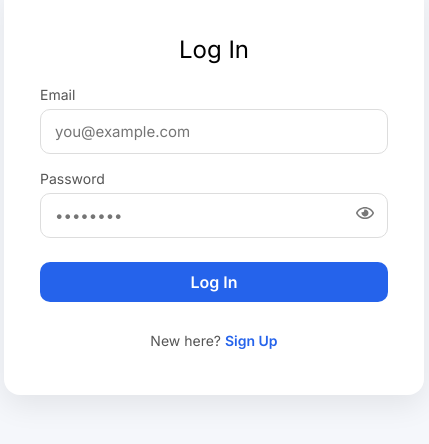
показує помилку якщо поля порожні
What coordinates should you click on to do the following:
click the button "Log In"
I would click on:
 (214, 282)
Its box is [40,262,388,302].
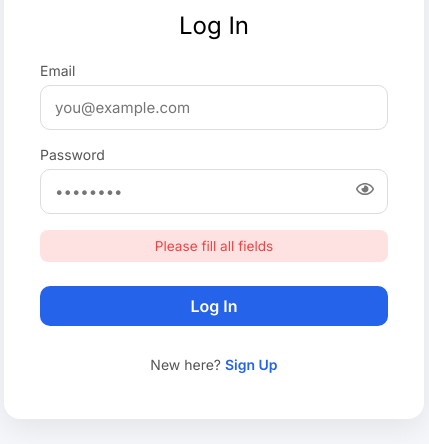
Check: the text "Please fill all fields" is shown, box [40,230,388,262]
